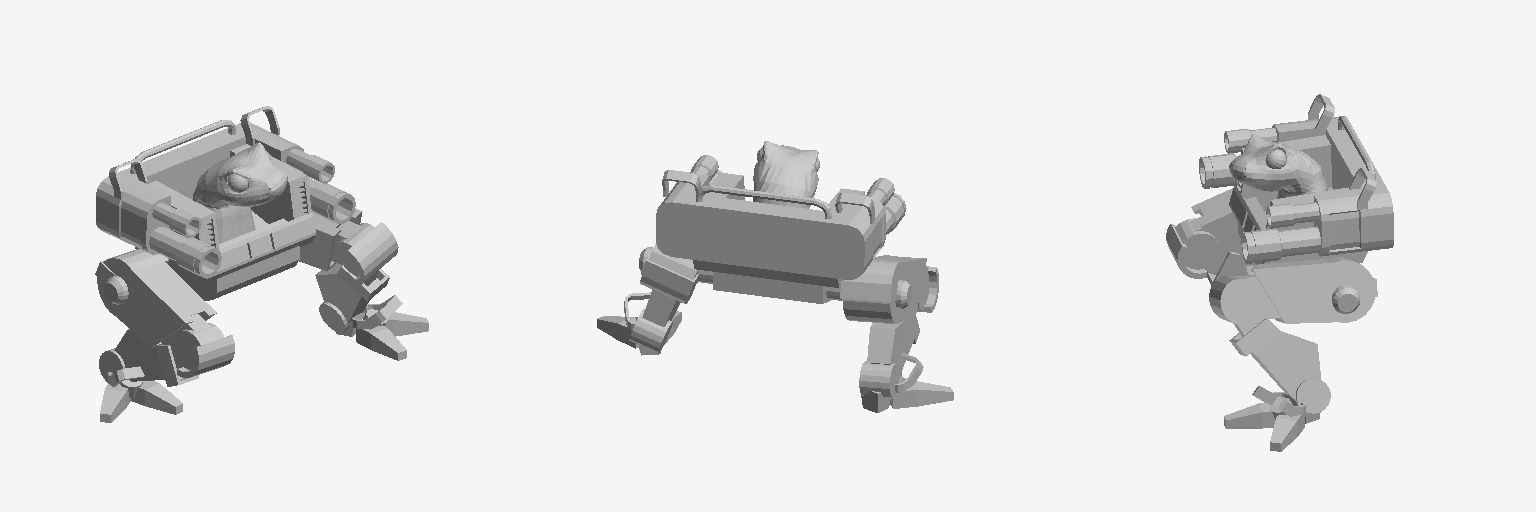
File: lizardmech.obj
3 views of the same model, side by side, from view 1: azimuth 30°, elevation 25°; view 2: azimuth 150°, elevation 25°; view 3: azimuth 270°, elevation 25° (orthographic).
Parts seen in each view (by area): view 1: FinnTheFrog; view 2: FinnTheFrog; view 3: FinnTheFrog.
Part boxes in pixels (x1,y1,x2,y2): FinnTheFrog: (95,106,428,422); FinnTheFrog: (597,141,953,412); FinnTheFrog: (1166,94,1393,451).
Size of the model in its own units: 4.4 by 2.79 by 2.55.